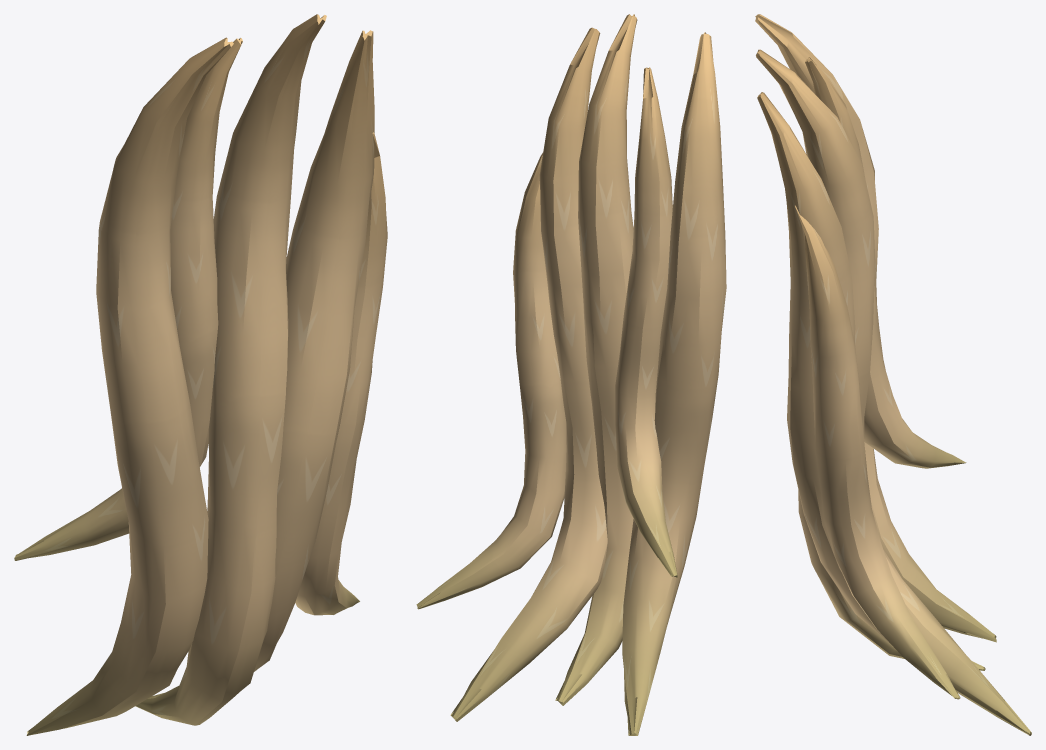
The model's file is MayanRootsA.fbx.
3 renders of one model, left to right at view 1: azimuth 30°, elevation 25°; view 2: azimuth 150°, elevation 25°; view 3: azimuth 270°, elevation 25°, orthographic. The views are drawn at different scales.
Visible parts, largest first — view 1: Circle.006; view 2: Circle.006; view 3: Circle.006.
Boxes of the visible parts, <box> form: Circle.006: <box>14,14,387,735</box>; Circle.006: <box>416,14,726,735</box>; Circle.006: <box>755,14,1031,735</box>.
Size of the model in its own units: 850 by 1920 by 729.
Materials: 1 (1 with a texture image).
